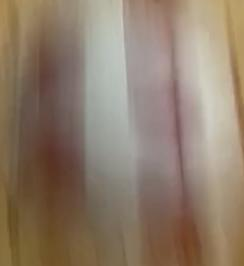Sports-Ball: (33, 18, 229, 201)
